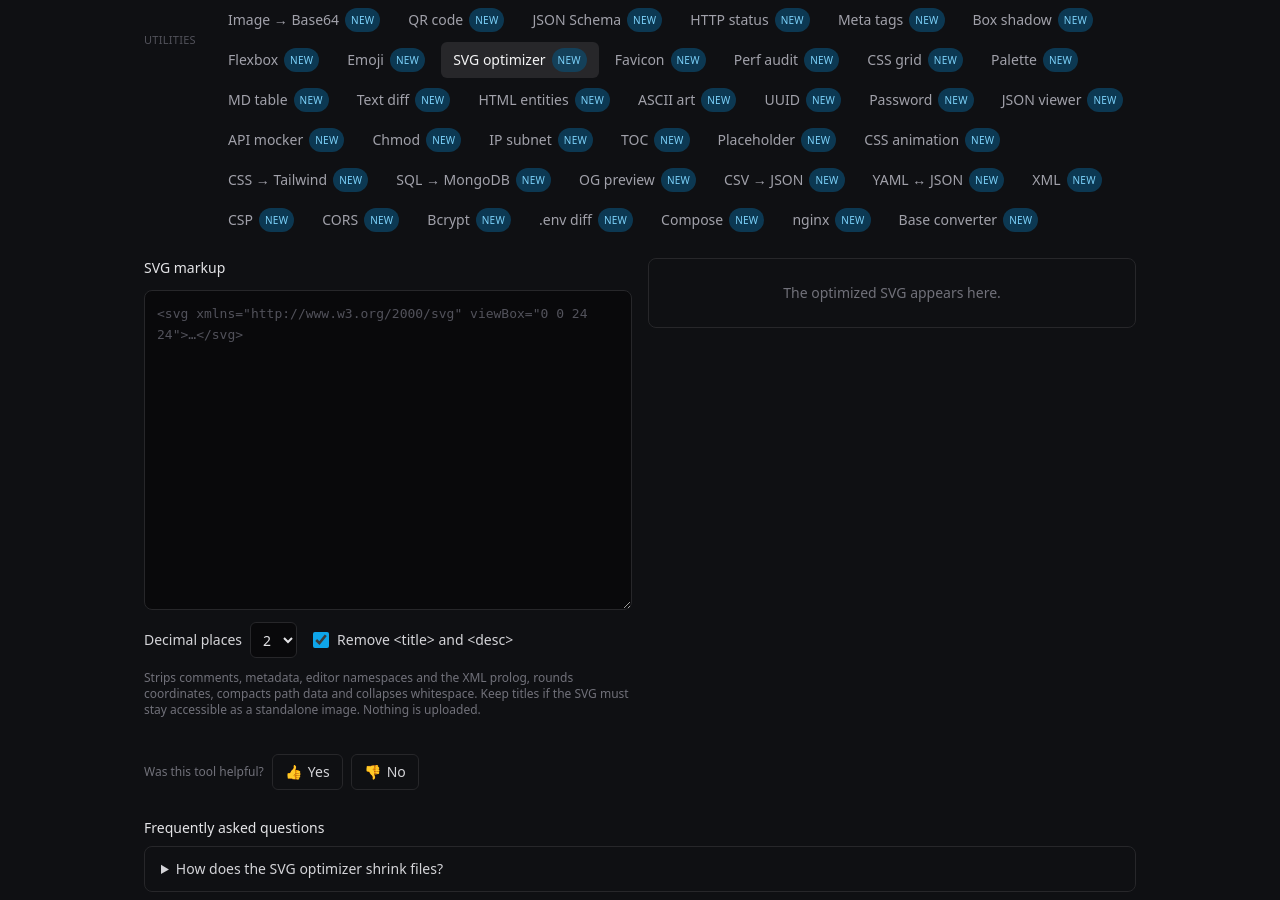
Scenario: SvgOptimizerPage › precision select changes the rounding
This screenshot has width=1280, height=900.
(page scrolled)
Replace the text in the text box with test id "svg-input" with "<svg xmlns=\"http://www.w3.org/2000/svg\" viewBox=\"0 0 10 10\"><!-- hi --><rect x=\"1.23456\" y=\"0\" width=\"5\" height=\"5\"/></svg>" at (388, 450), box top-left (144, 290), bottom-right (632, 610)
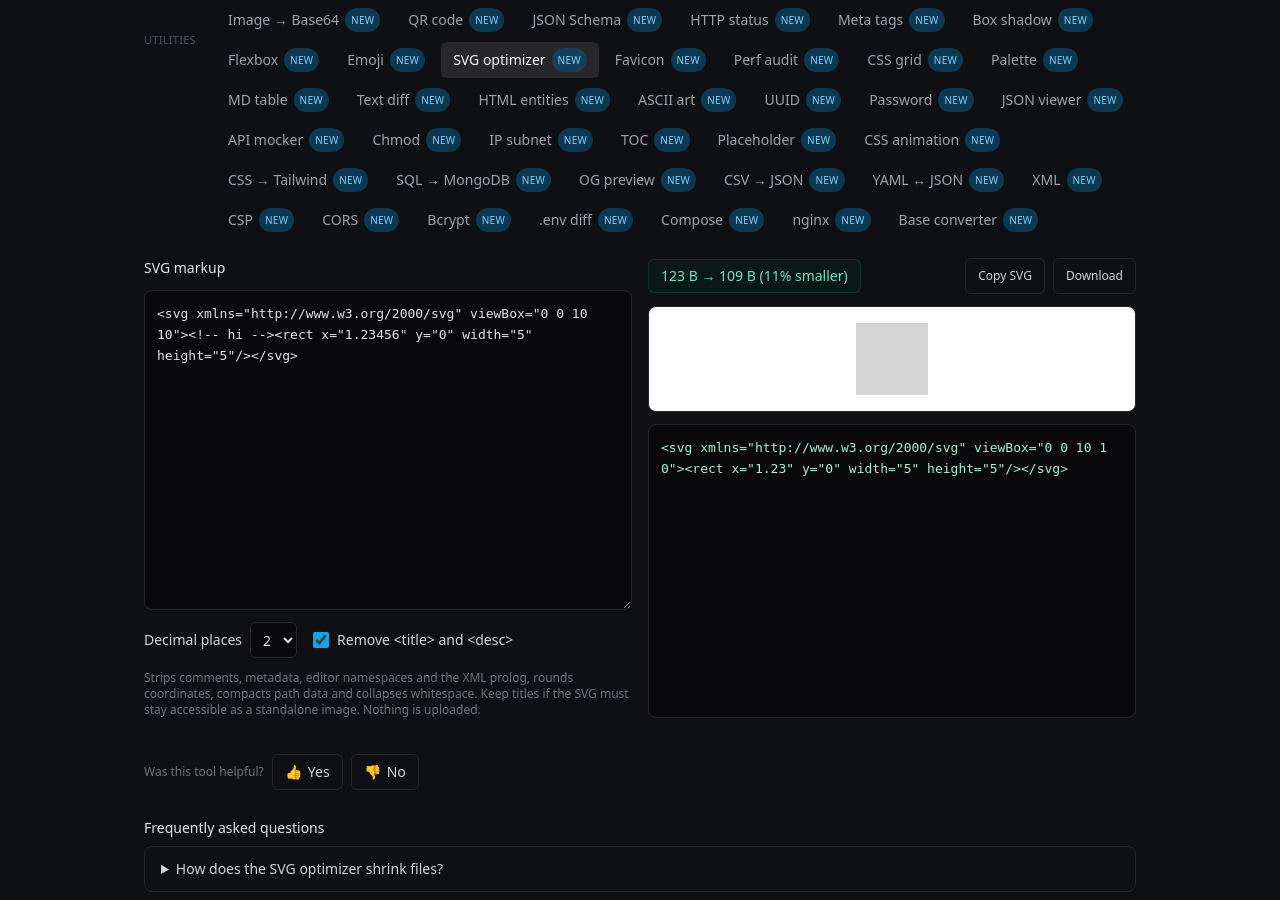
Select "0" in the dropdown with test id "svg-precision" at (274, 640), box top-left (250, 622), bottom-right (297, 658)
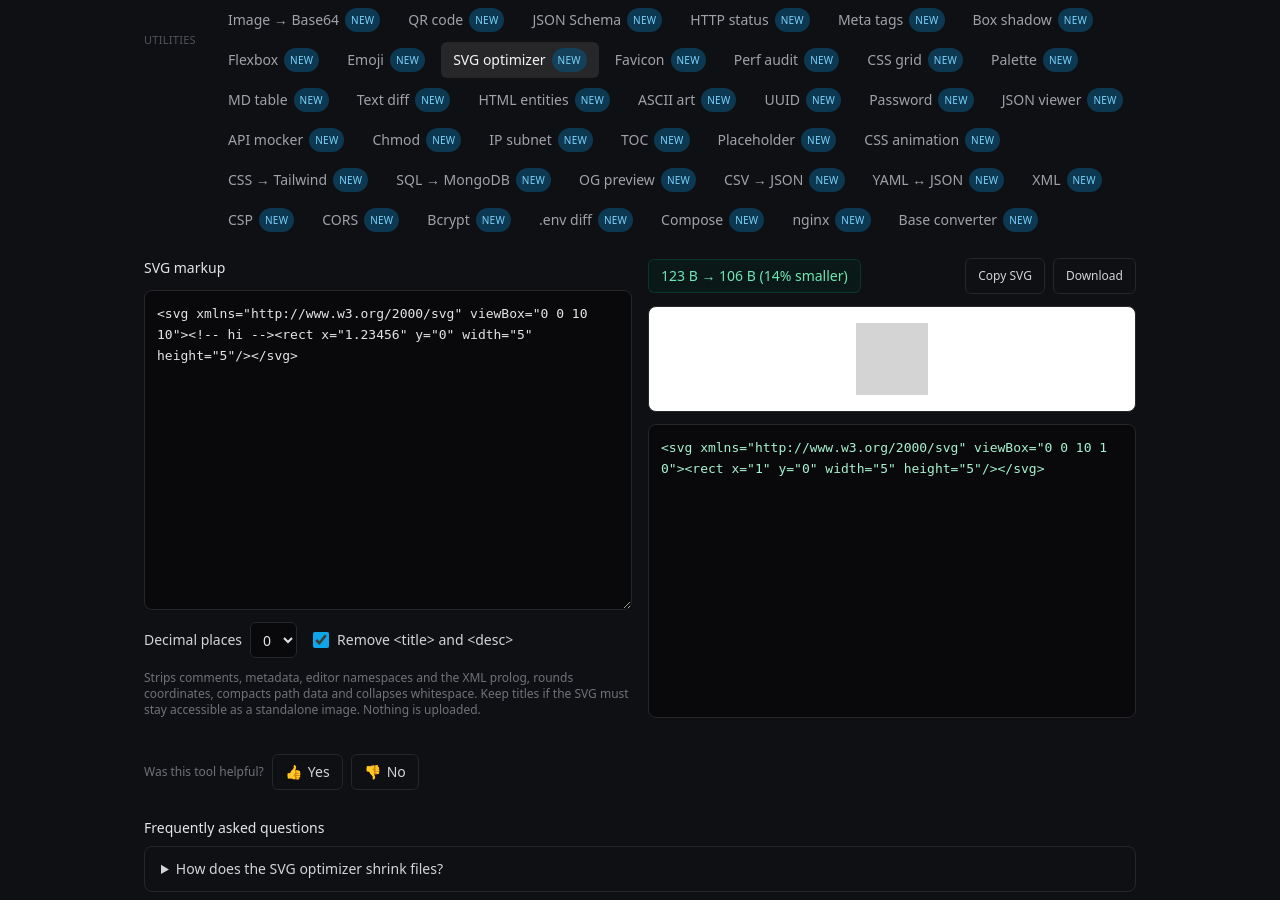
Expected: the text with test id "svg-output" shows "x=\"1\"", top-left (661, 440), bottom-right (1107, 476)
